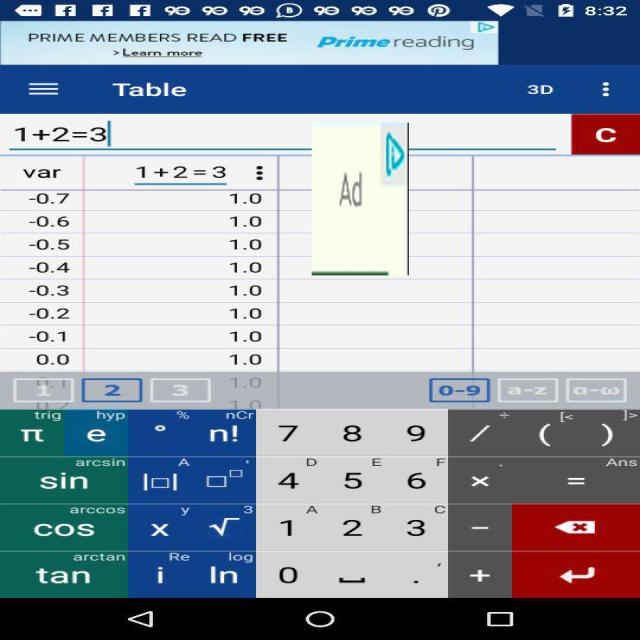sneaking: (312, 123, 409, 275)
